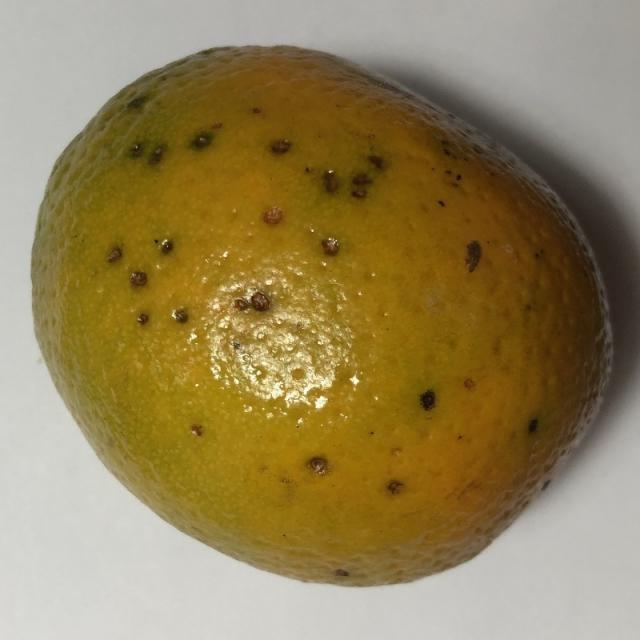blackspot: (20, 26, 628, 625)
